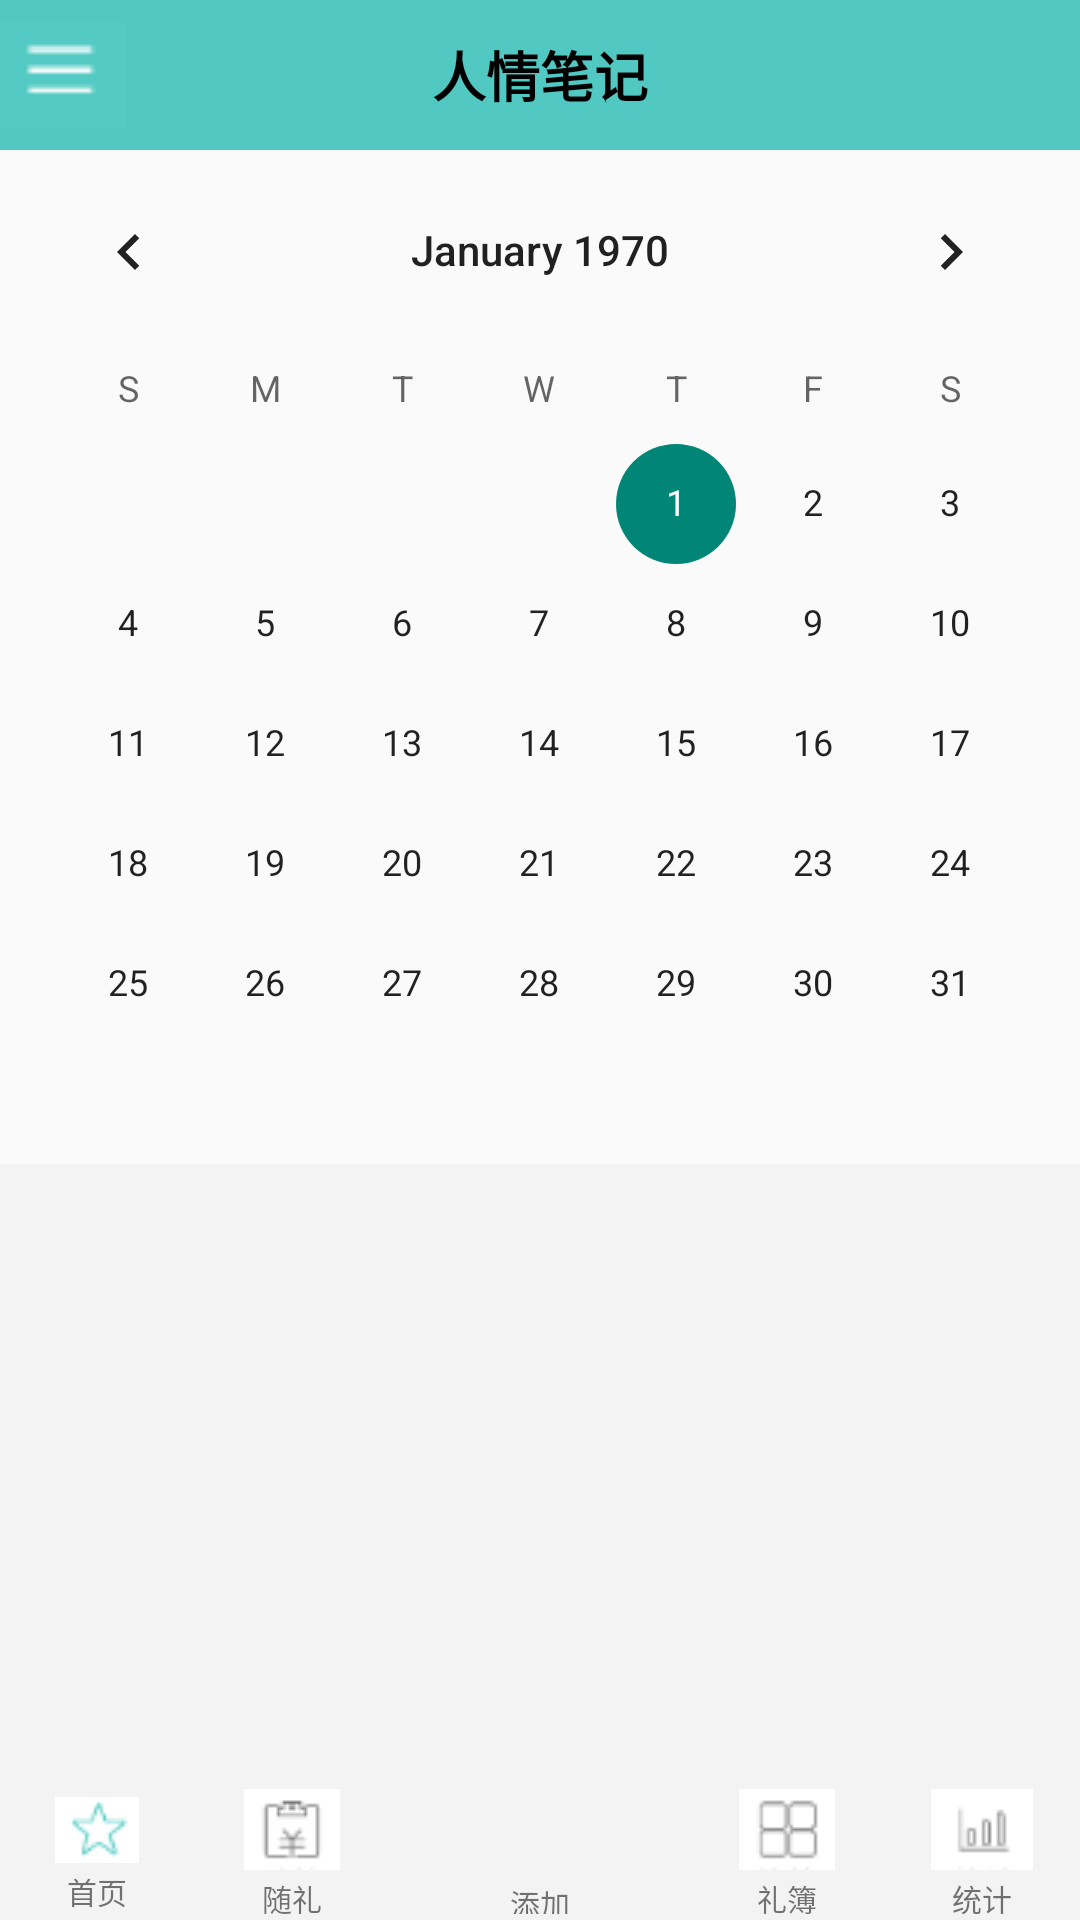

Screen size 1080x1920. Icon name, then its box in pixels as (x1, y1, x2, y2):
more: (26, 44, 95, 94)
